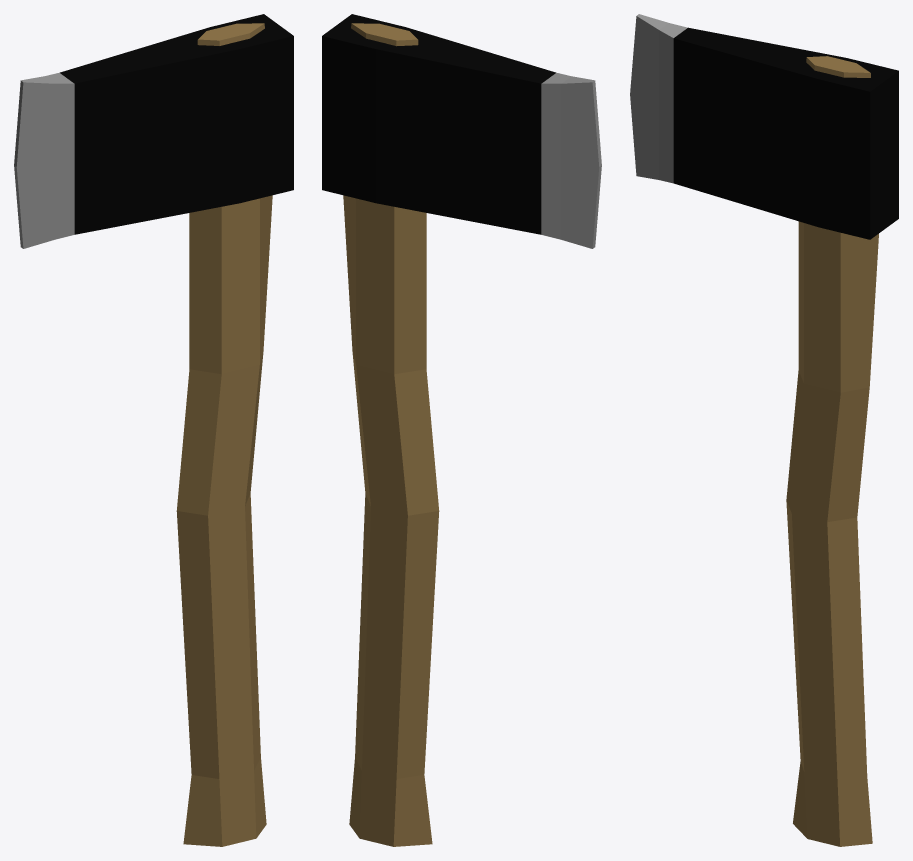
The picture shows the model from 3 angles, left to right: view 1: azimuth 30°, elevation 25°; view 2: azimuth 150°, elevation 25°; view 3: azimuth 330°, elevation 25°; orthographic projection. The views are drawn at different scales.
Visible parts, largest first — view 1: Axe_0; view 2: Axe_0; view 3: Axe_0.
Part boxes in pixels (x1,y1,x2,y2): Axe_0: (14,14,293,846); Axe_0: (322,14,601,846); Axe_0: (630,14,898,846).
Size of the model in its own units: 1.8 by 5.23 by 0.3538.
